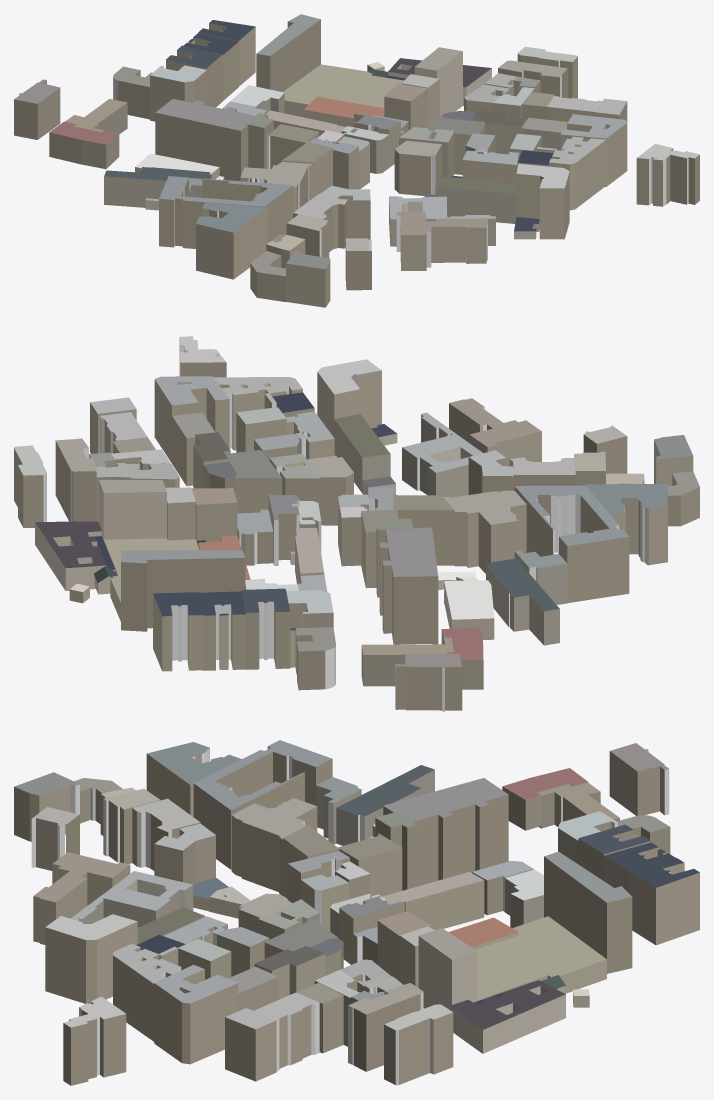
3 views of the same model, one above another, from view 1: azimuth 30°, elevation 25°; view 2: azimuth 150°, elevation 25°; view 3: azimuth 270°, elevation 25° (orthographic). The views are drawn at different scales.
Parts seen in each view (by area): view 1: tuile; view 2: tuile; view 3: tuile.
Part boxes in pixels (box(x1,y1,x2,y2)): tuile: box(14, 14, 699, 307); tuile: box(14, 336, 699, 711); tuile: box(14, 740, 699, 1085).
Size of the model in its own units: 266 by 35.6 by 270.
